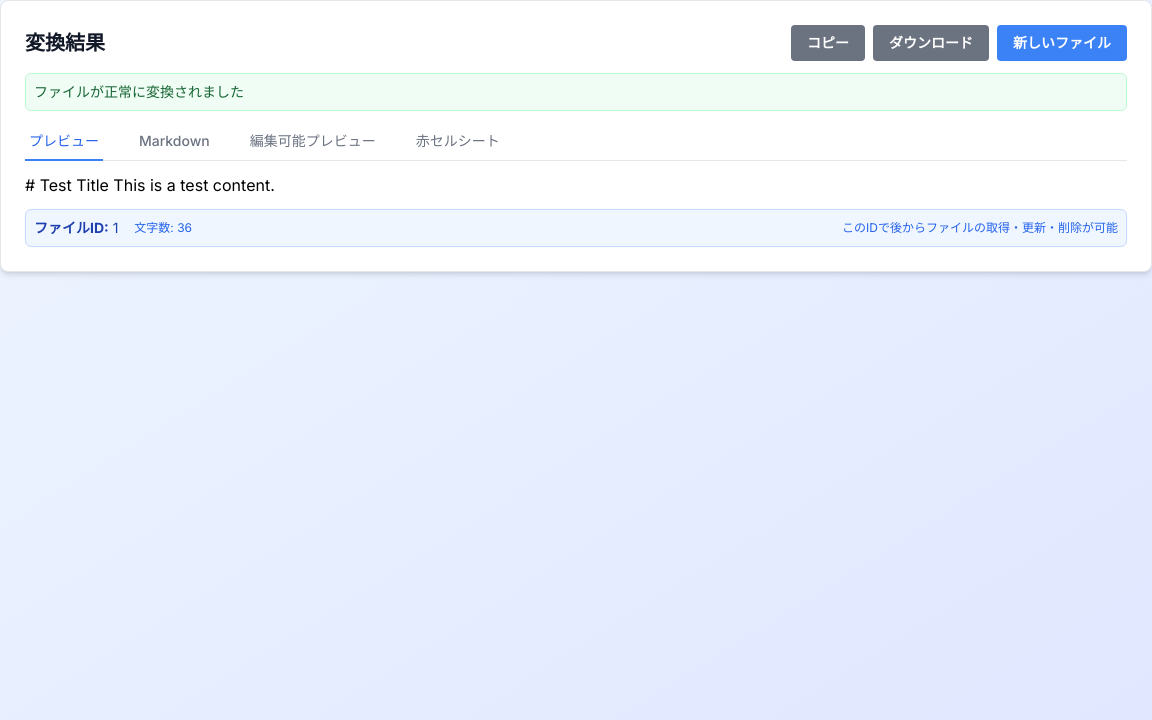
MarkdownDisplay › 赤セルシートタブをクリックすると赤セルシート表示に切り替わる
Note: 赤セルシートタブをクリック
Click the button "赤セルシート". click: (458, 142)
box: [412, 123, 504, 161]
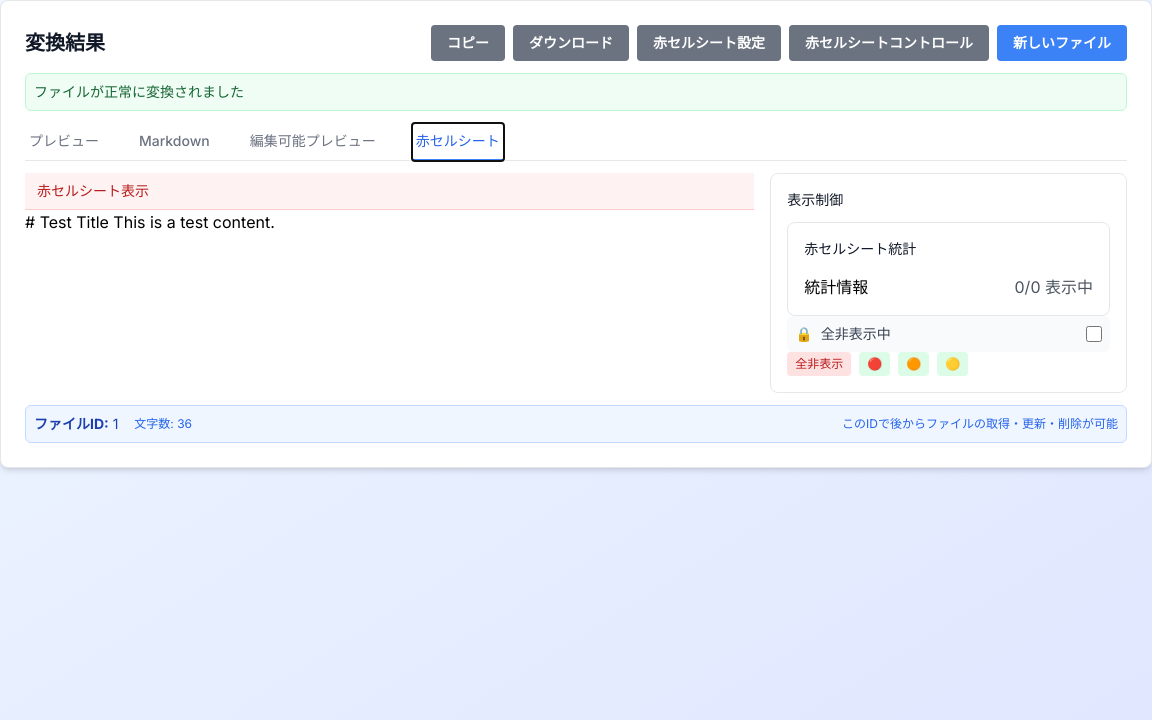
Expected: the heading "赤セルシート表示" is shown, [37, 182, 149, 199]
Expected: the heading "表示制御" is shown, [787, 191, 843, 208]
